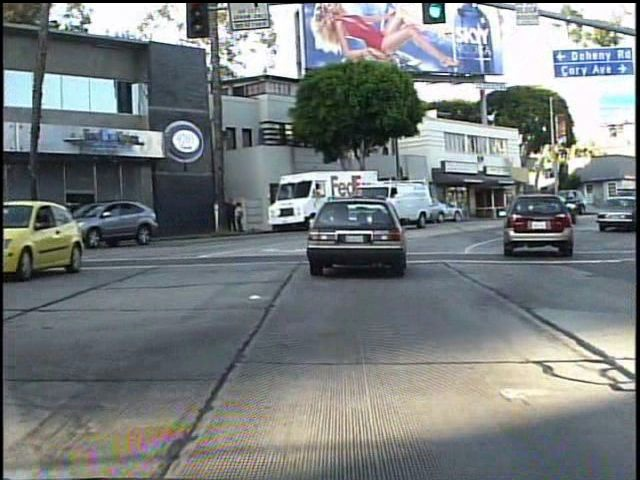person: (224, 194, 237, 234), (234, 200, 248, 234)
